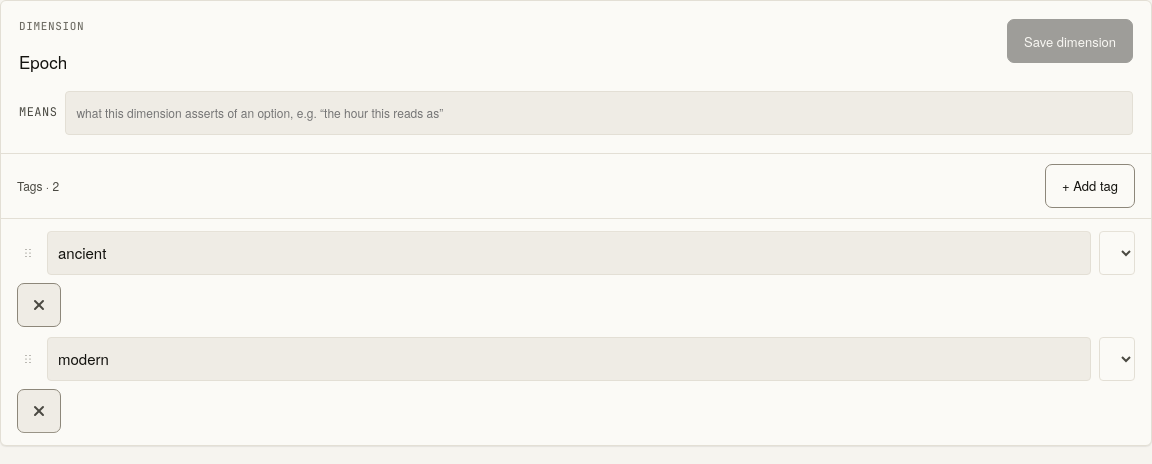
Test case: DimensionEditor — name-save contract › Save is disabled until the name (or tags) change
This screenshot has width=1152, height=464.
Expected: the button "Save dimension" is disabled, [1007,19,1133,63]
Replace the text in the field named "Dimension name" with "Era": (132, 62) [19,45,246,79]
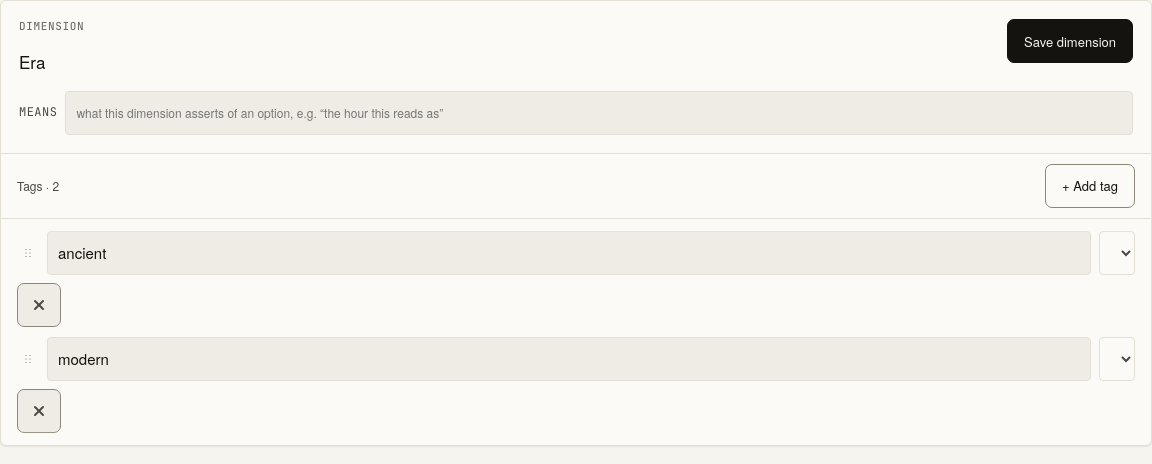
Result: the button "Save dimension" is enabled at [1007,19,1133,63]
